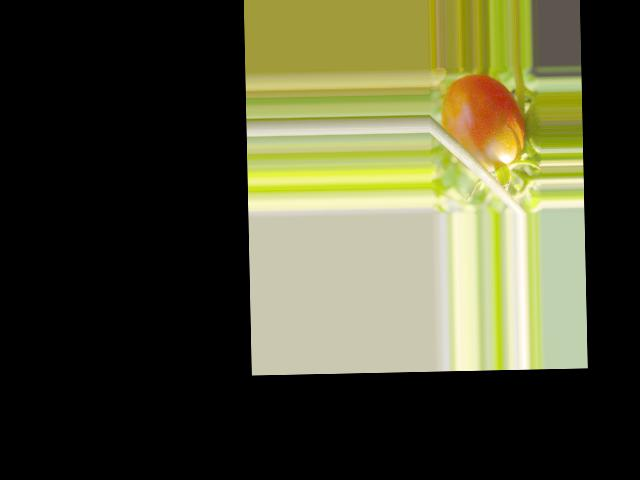tomato: (441, 73, 524, 173)
